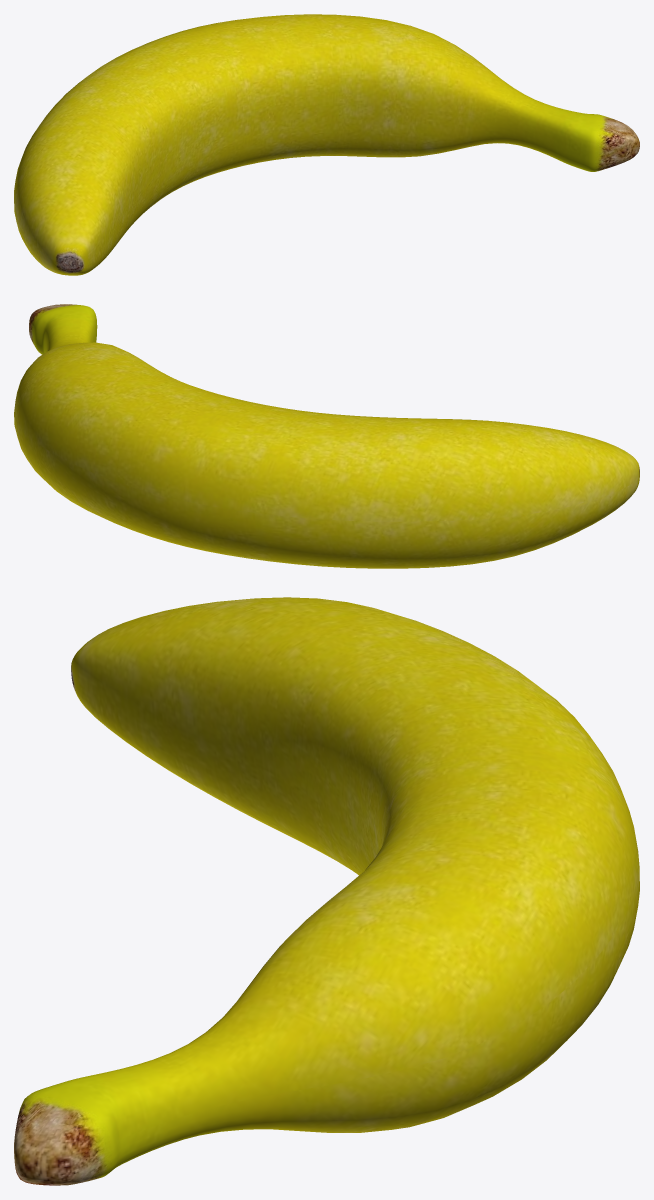
File: SM_YellowBanana.fbx
The picture shows the model from 3 angles, top to bottom: view 1: azimuth 30°, elevation 25°; view 2: azimuth 150°, elevation 25°; view 3: azimuth 270°, elevation 25°; orthographic projection. The views are drawn at different scales.
Visible parts, largest first — view 1: YellowBananaExocarp; view 2: YellowBananaExocarp; view 3: YellowBananaExocarp.
Part boxes in pixels (x1,y1,x2,y2): YellowBananaExocarp: [14, 14, 639, 275]; YellowBananaExocarp: [14, 304, 639, 568]; YellowBananaExocarp: [14, 597, 639, 1185].
Size of what is drawn, in the model's own units: 20.24 by 10.62 by 4.27.
